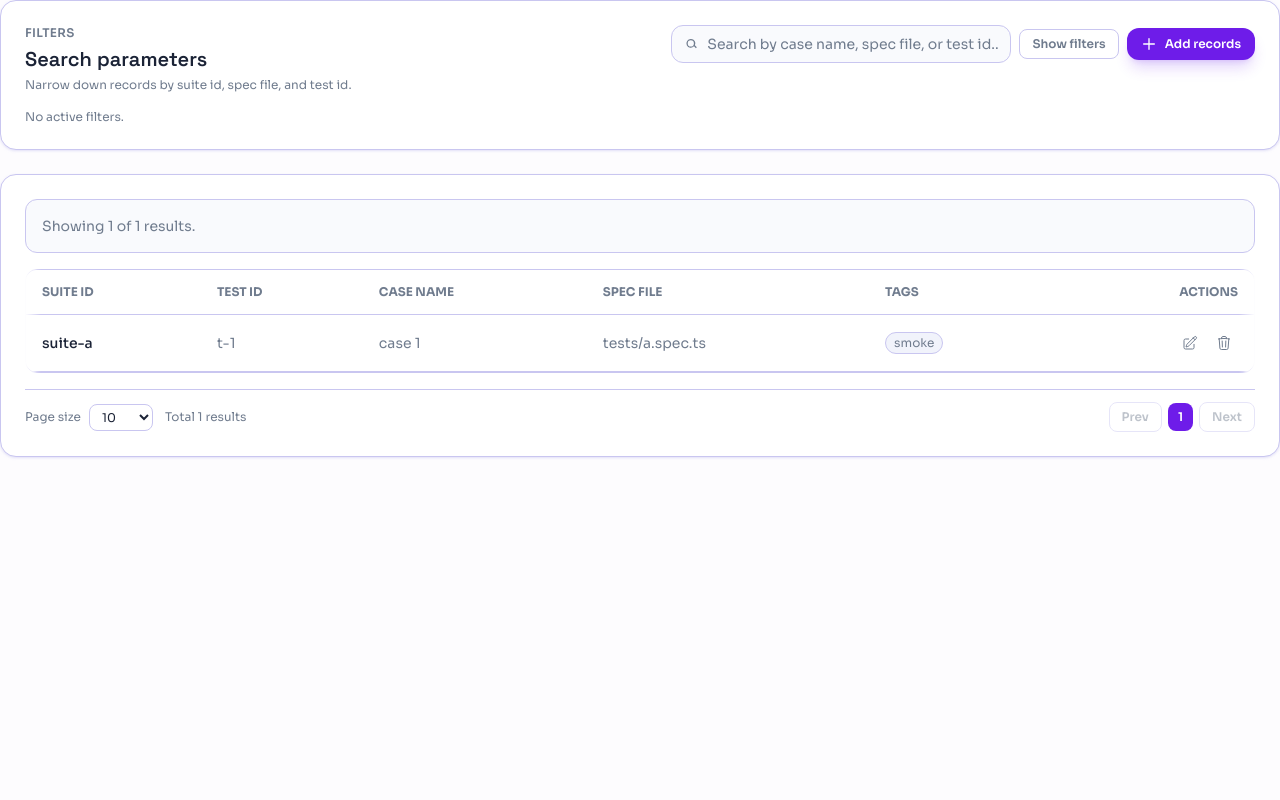
Test case: TestSuitesTable › deletes a row from actions column
The image size is (1280, 800).
Click the button titled "Delete record": (1224, 343) [1210, 329, 1238, 357]
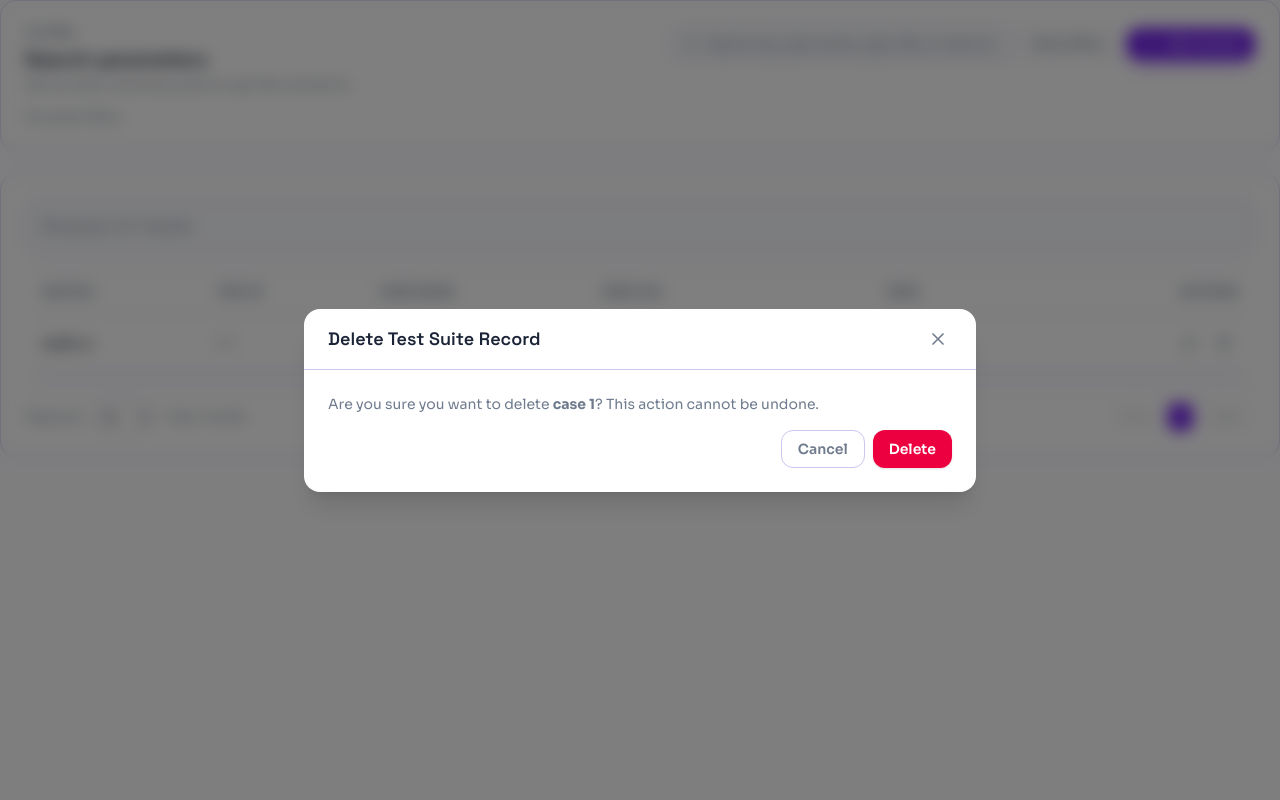
Click the button "Delete": (912, 448) [873, 430, 952, 468]
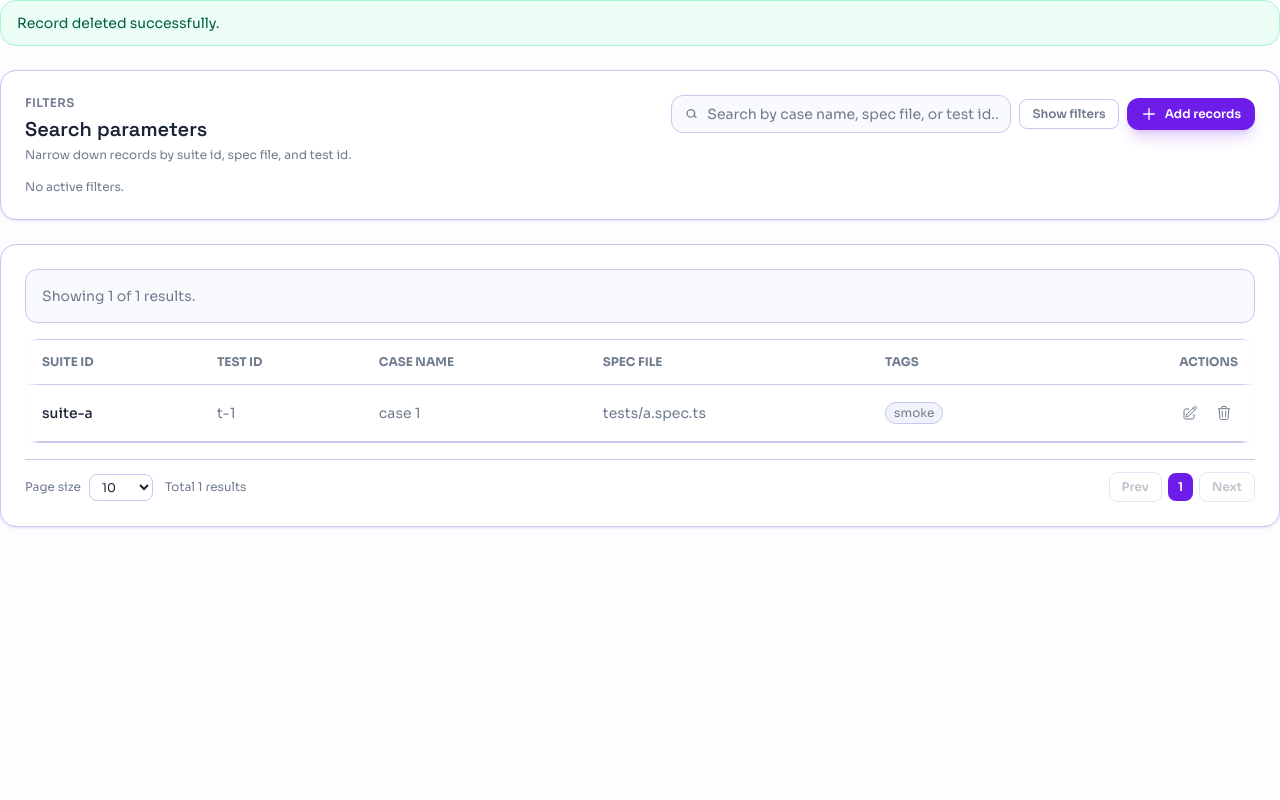
Expected: the text "Record deleted successfully." is shown, [0, 0, 1279, 46]
